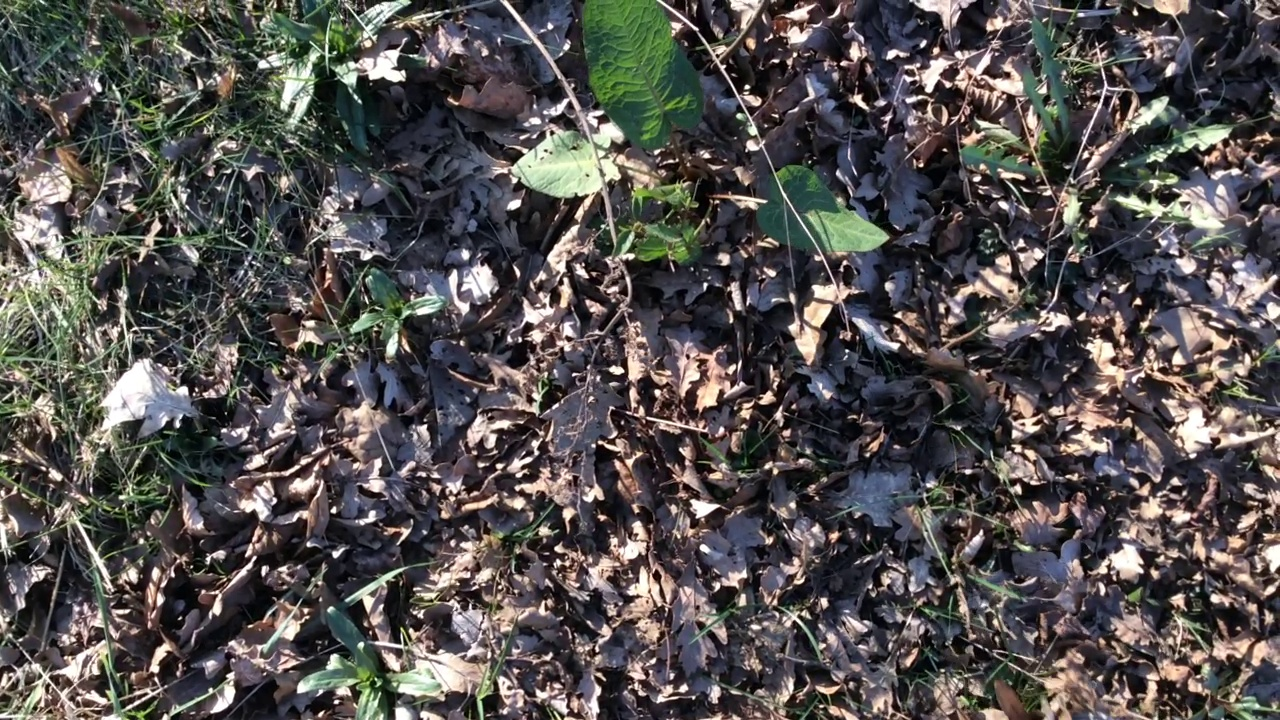rumex: (511, 1, 889, 265)
